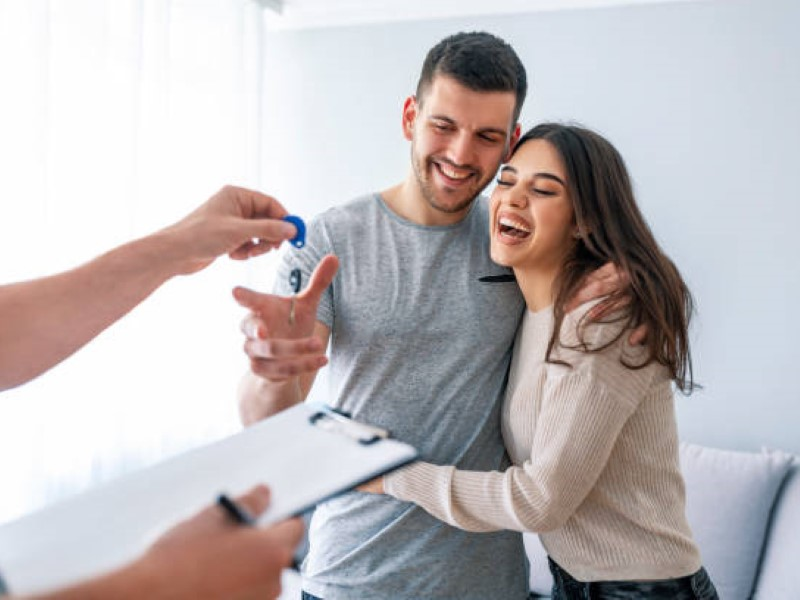key: (283, 214, 306, 310)
